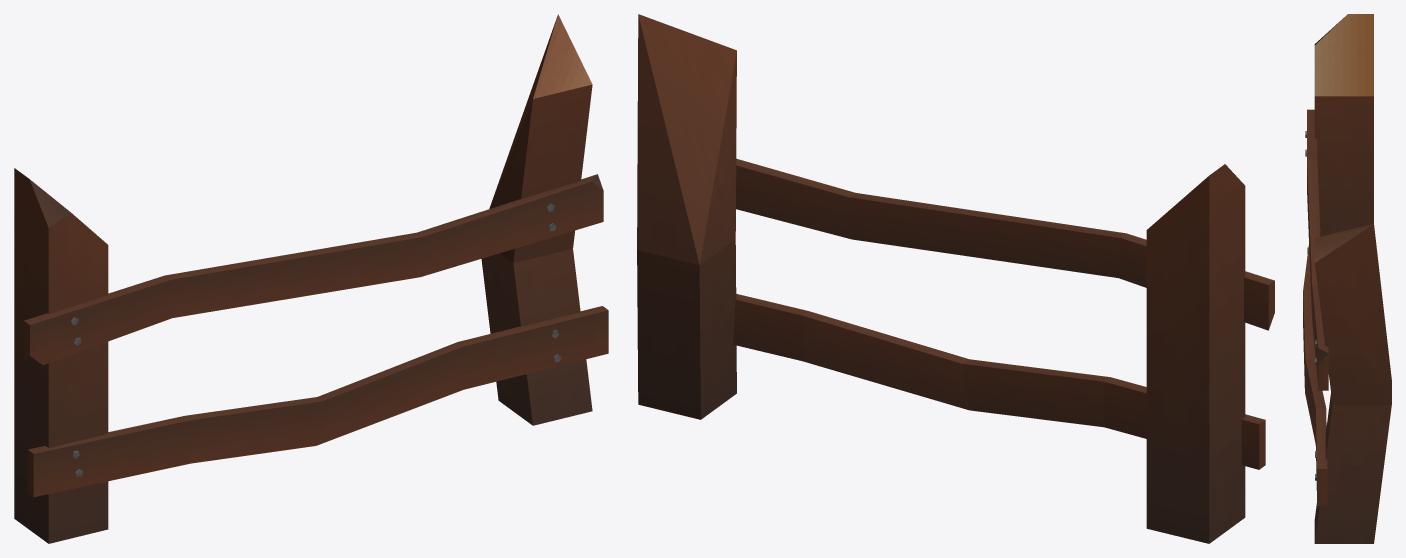
Rendered from cerca_madeira_curta.glb.
3 views of the same model, side by side, from view 1: azimuth 30°, elevation 25°; view 2: azimuth 150°, elevation 25°; view 3: azimuth 270°, elevation 25° (orthographic). The views are drawn at different scales.
Visible parts, largest first — view 1: SWFModShortA; view 2: SWFModShortA; view 3: SWFModShortA.
Boxes of the visible parts, x1,y1,x2,y2 form: SWFModShortA: (14,14,608,543); SWFModShortA: (637,14,1274,543); SWFModShortA: (1303,14,1391,543).
Bounding box in the file's own units: 2.15 × 1.31 × 0.3286.
Materials: 1 (1 with a texture image).
